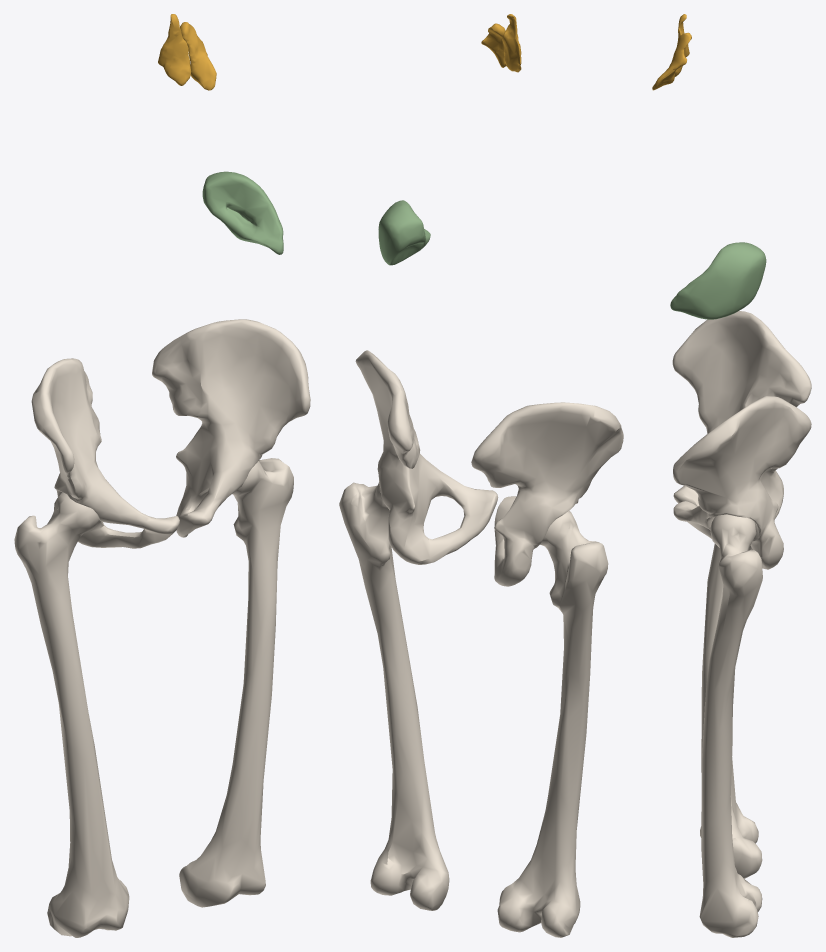
File: imunologi.glb
3 renders of one model, left to right at view 1: azimuth 30°, elevation 25°; view 2: azimuth 150°, elevation 25°; view 3: azimuth 270°, elevation 25°, orthographic. The views are drawn at different scales.
Parts seen in each view (by area): view 1: Left hip bone, Right femur, Left femur, Right hip bone, Spleen, Right lobe of thymus, Left lobe of thymus; view 2: Right femur, Left femur, Right hip bone, Left hip bone, Spleen, Right lobe of thymus, Left lobe of thymus; view 3: Left femur, Left hip bone, Right hip bone, Spleen, Right femur, Left lobe of thymus.
Part boxes in pixels (x1,y1,x2,y2): Left hip bone: (152, 319, 310, 537); Right femur: (14, 492, 129, 937); Left femur: (179, 458, 293, 907); Right hip bone: (31, 358, 179, 548); Spleen: (202, 171, 283, 254); Right lobe of thymus: (158, 14, 191, 85); Left lobe of thymus: (180, 22, 216, 90); Right femur: (497, 510, 608, 937); Left femur: (339, 482, 449, 910); Right hip bone: (471, 402, 623, 586); Left hip bone: (355, 350, 498, 564); Spleen: (378, 200, 430, 265); Right lobe of thymus: (502, 14, 521, 72); Left lobe of thymus: (481, 23, 506, 67); Left femur: (699, 514, 762, 937); Left hip bone: (673, 396, 811, 569); Right hip bone: (672, 311, 811, 519); Spleen: (670, 242, 766, 319); Right femur: (700, 543, 762, 878); Left lobe of thymus: (652, 32, 691, 90).
Size of the model in its own units: 0.6243 by 2 by 0.3289.
